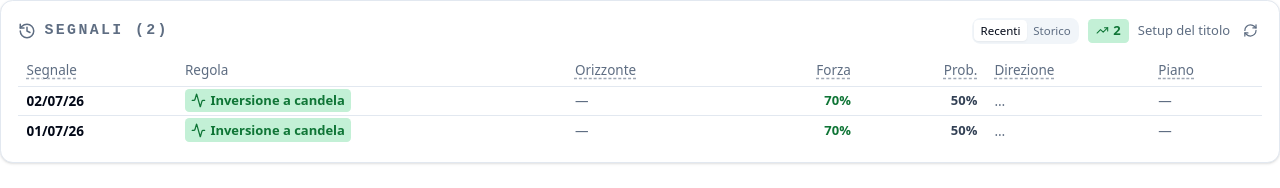
Test: StockAlertsHistoryCard › la striscia di statistiche NON compare sullo storico
expect the element titled "tono bullish" is shown: met, box [1088, 19, 1129, 43]
Click the button "Storico": (1052, 31) [1027, 20, 1077, 41]
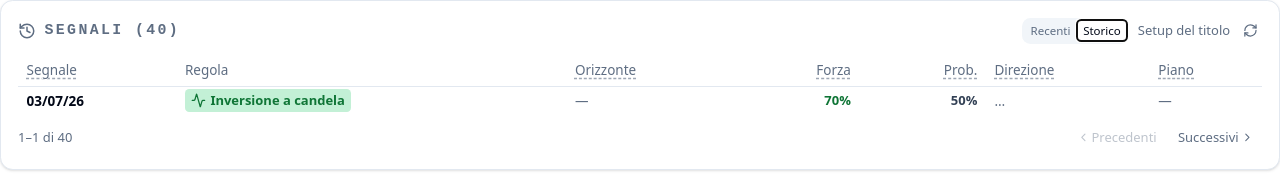
expect the text "Segnali (40)" is shown: met, box [44, 20, 180, 41]
